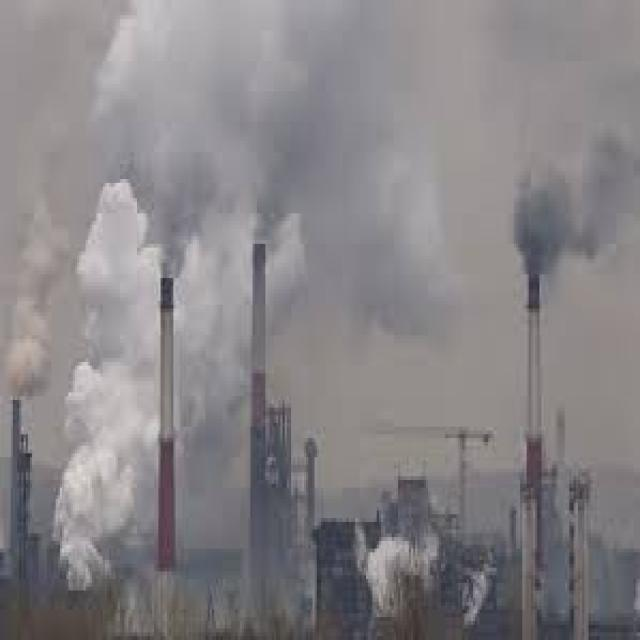Smoke: (4, 0, 466, 592), (512, 111, 640, 281)
